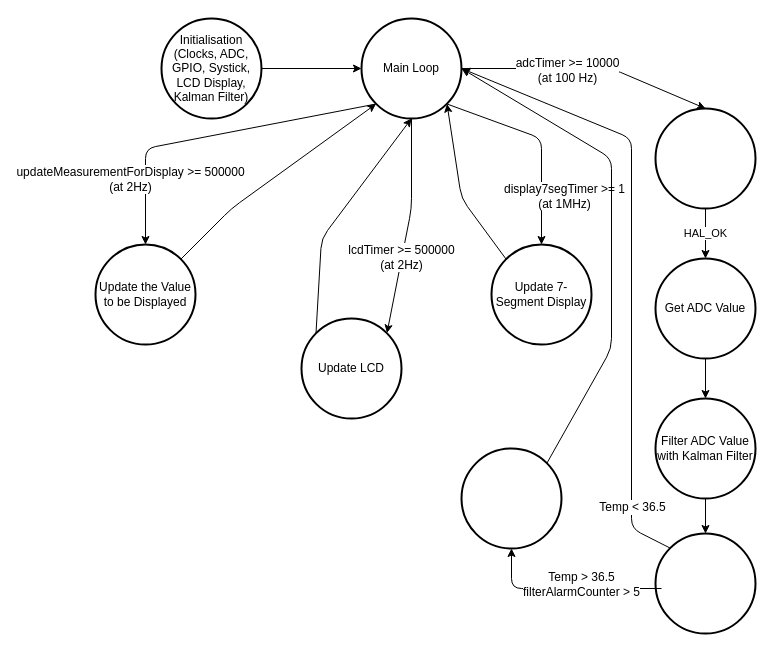
Image size: 774x651. Some labels were removed from this diagram. The box of each missing label's shape, as (x1, y1, x2, y2) in pixels:
Convert Value to Celcius: (654, 532, 756, 634)
Pool for Conversion: (654, 107, 756, 209)
Trigger the Alarm: (460, 447, 562, 549)
